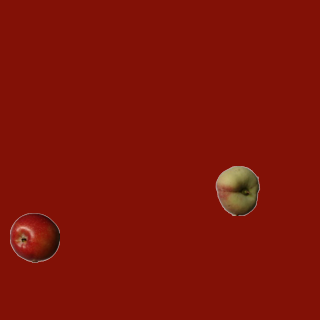Apple Braeburn: (9, 212, 59, 262)
Peach Flat: (212, 165, 262, 215)
